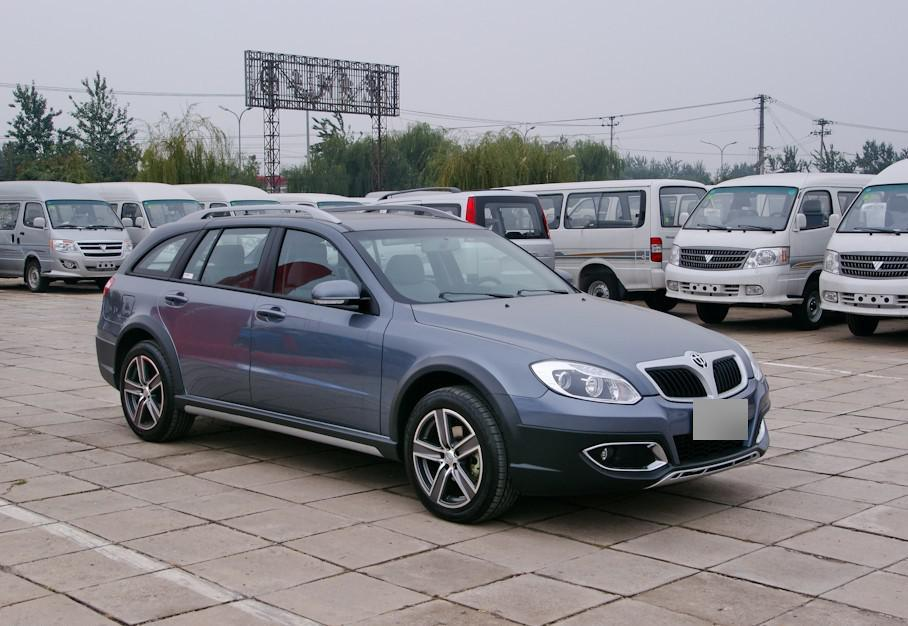Wagon: (96, 200, 770, 524)
